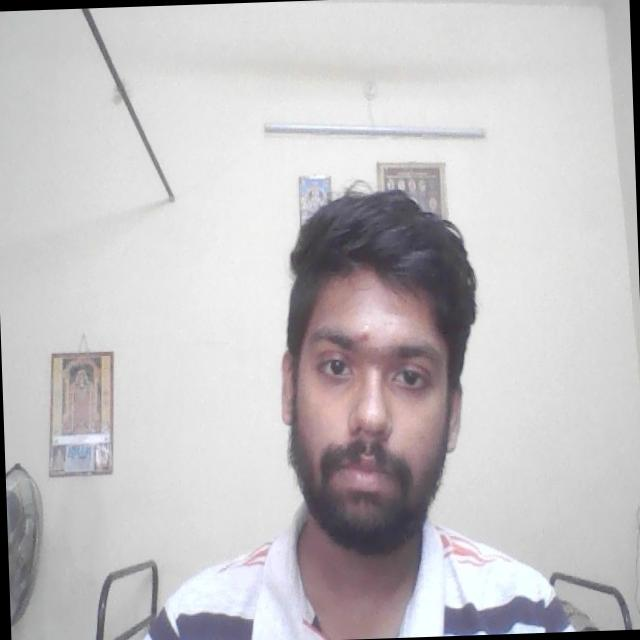Focused: (278, 280, 466, 532)
